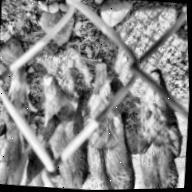boar: (78, 46, 139, 190), (128, 69, 190, 189), (29, 76, 89, 190), (0, 65, 40, 187)
